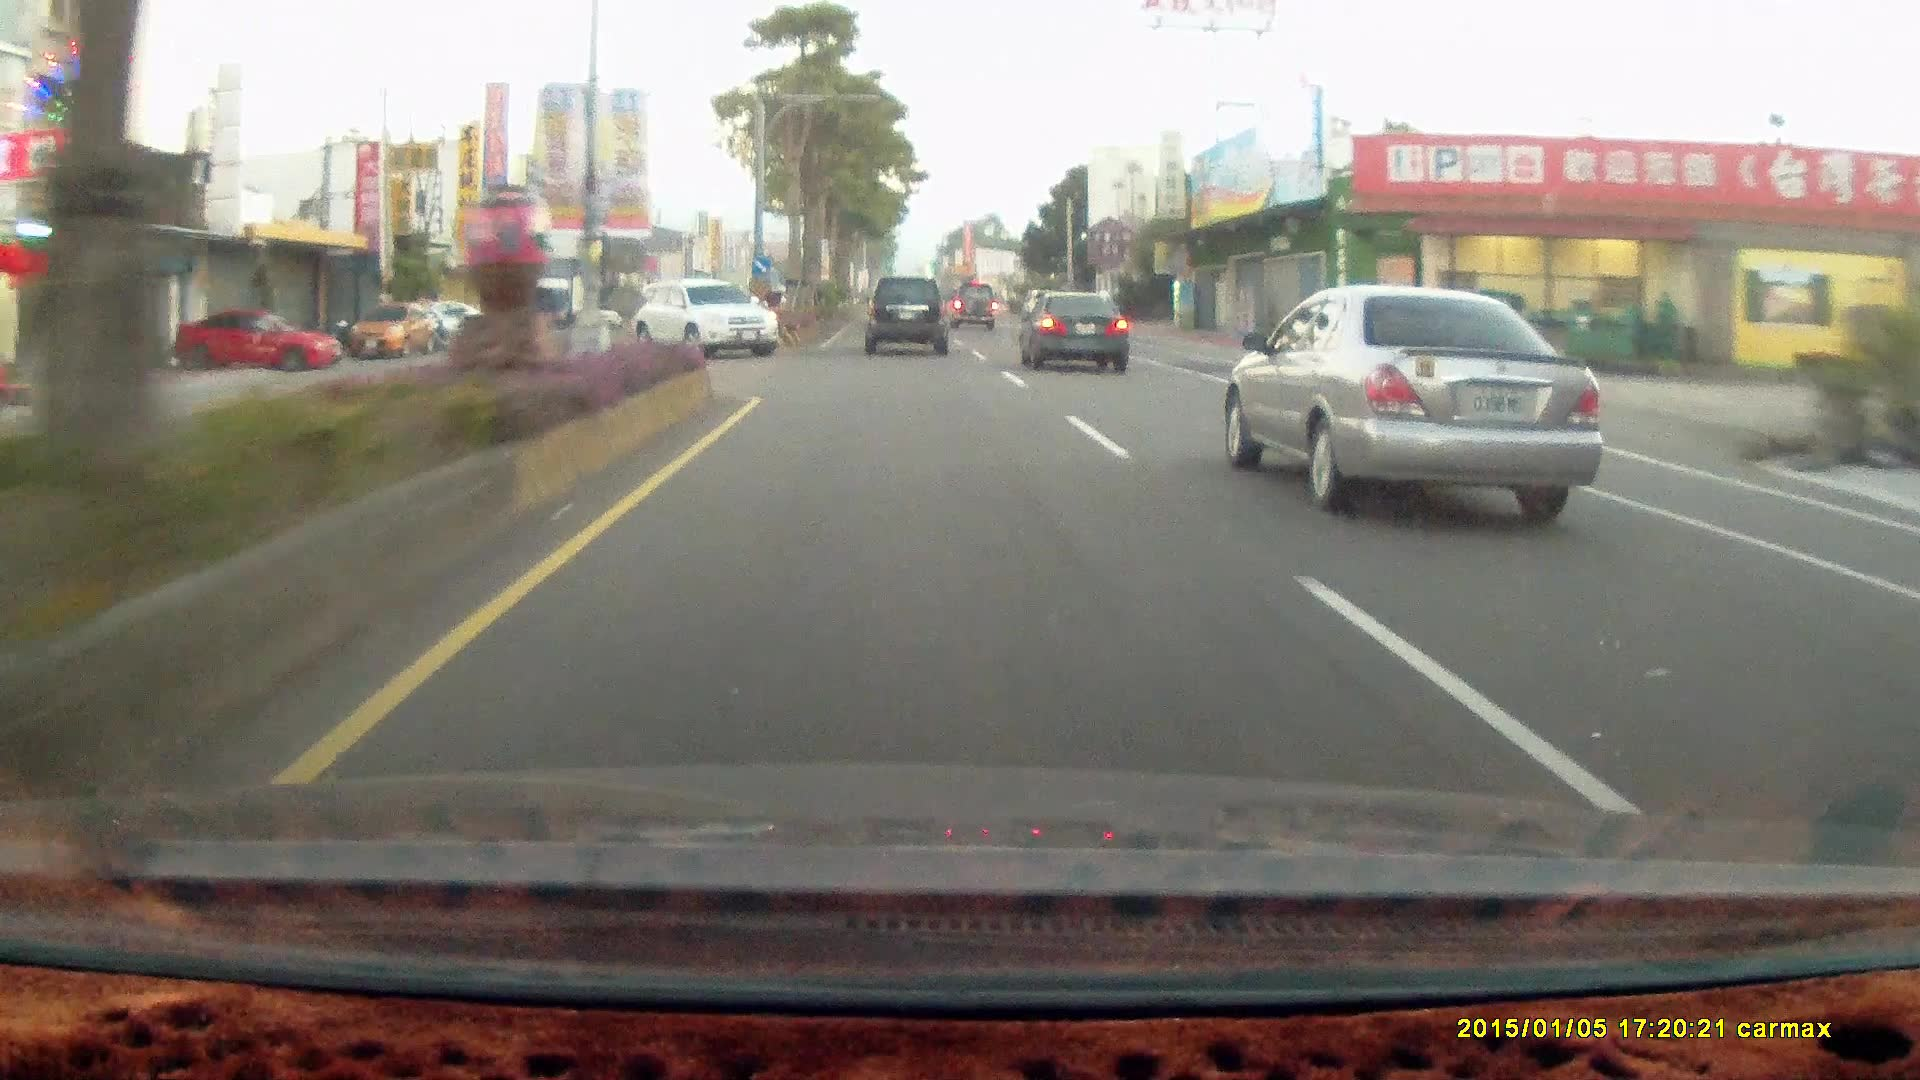vehicle: (1224, 284, 1614, 526), (626, 276, 779, 361), (644, 278, 785, 357), (170, 313, 342, 375), (173, 309, 342, 371), (1015, 287, 1127, 372), (1021, 291, 1131, 373), (344, 301, 464, 365), (868, 278, 956, 357), (862, 274, 947, 352), (345, 305, 433, 357), (400, 302, 488, 345), (945, 282, 1000, 334)
